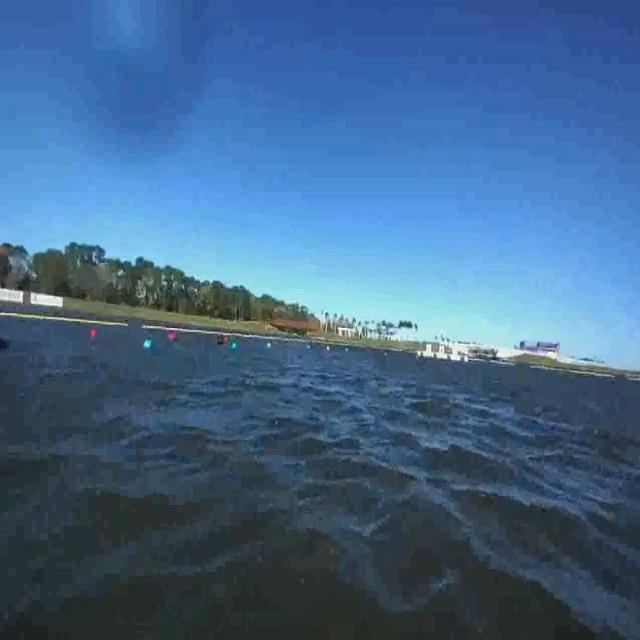green-buoy: (144, 340, 153, 352)
red-buoy: (92, 328, 98, 337)
